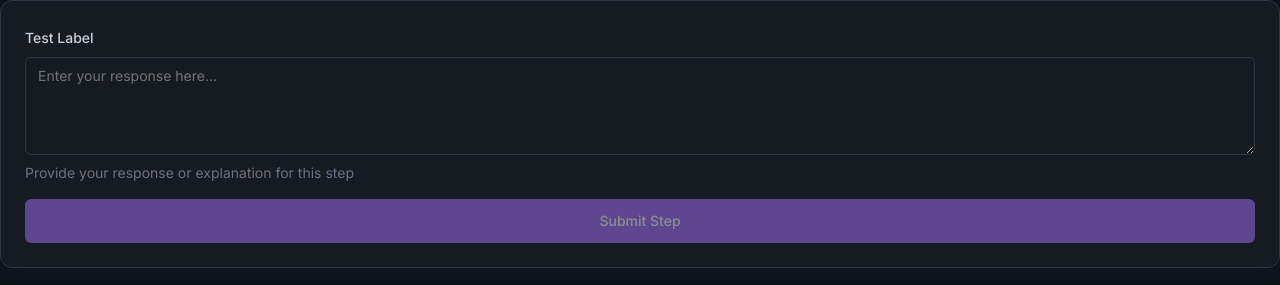
Scenario: OnboardingSubmissionForm › Form Validation › enables submit button when input has value
The image size is (1280, 285).
Type "Some text" into the text box labelled "Test Label" at (640, 106), box [25,57,1255,155]
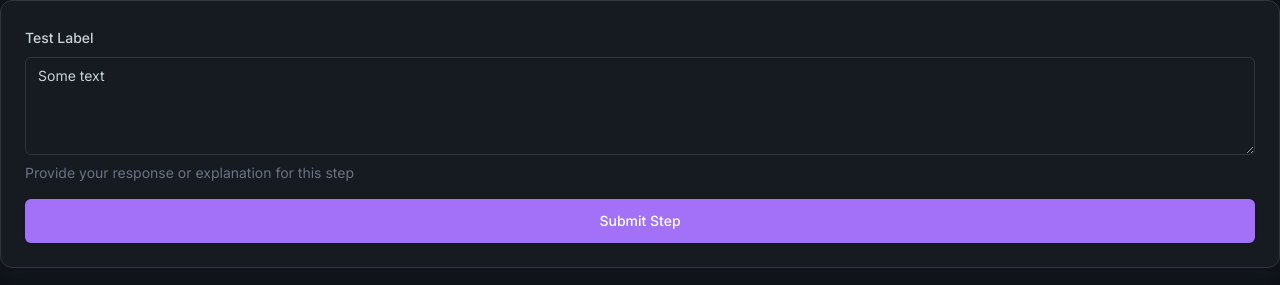
Result: the button "Submit Step" is enabled at [25,199,1255,243]
